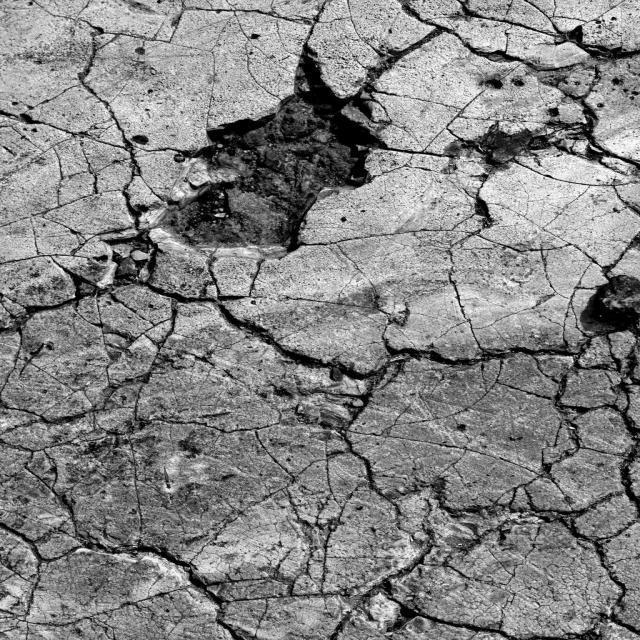pothole: (65, 38, 611, 527)
